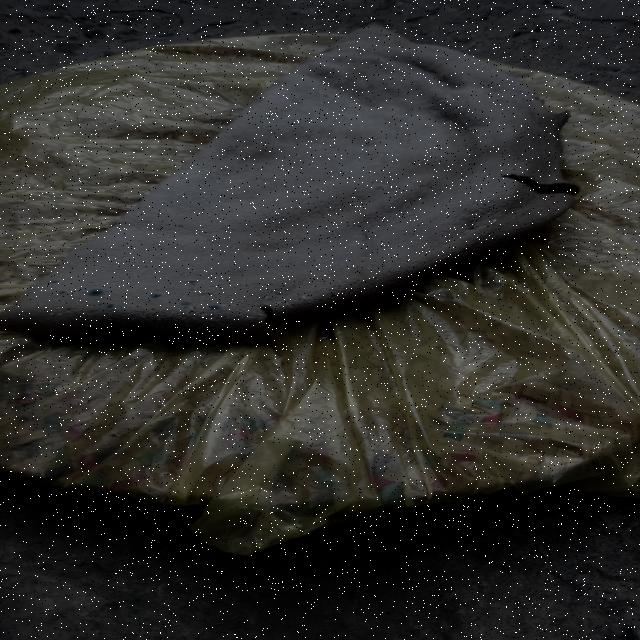injera_mold: (194, 319, 228, 337), (154, 315, 188, 331), (49, 305, 71, 319), (207, 303, 226, 313), (300, 293, 314, 306), (266, 294, 282, 302), (257, 335, 273, 343), (88, 289, 103, 297), (179, 300, 194, 308), (373, 184, 387, 192), (184, 280, 200, 286), (149, 293, 164, 299), (271, 310, 282, 318), (49, 279, 60, 285), (105, 303, 116, 309), (57, 290, 67, 296), (322, 93, 331, 99), (206, 287, 213, 293), (492, 218, 498, 223), (89, 280, 95, 284), (487, 211, 493, 215), (496, 211, 502, 214), (474, 212, 478, 215)
